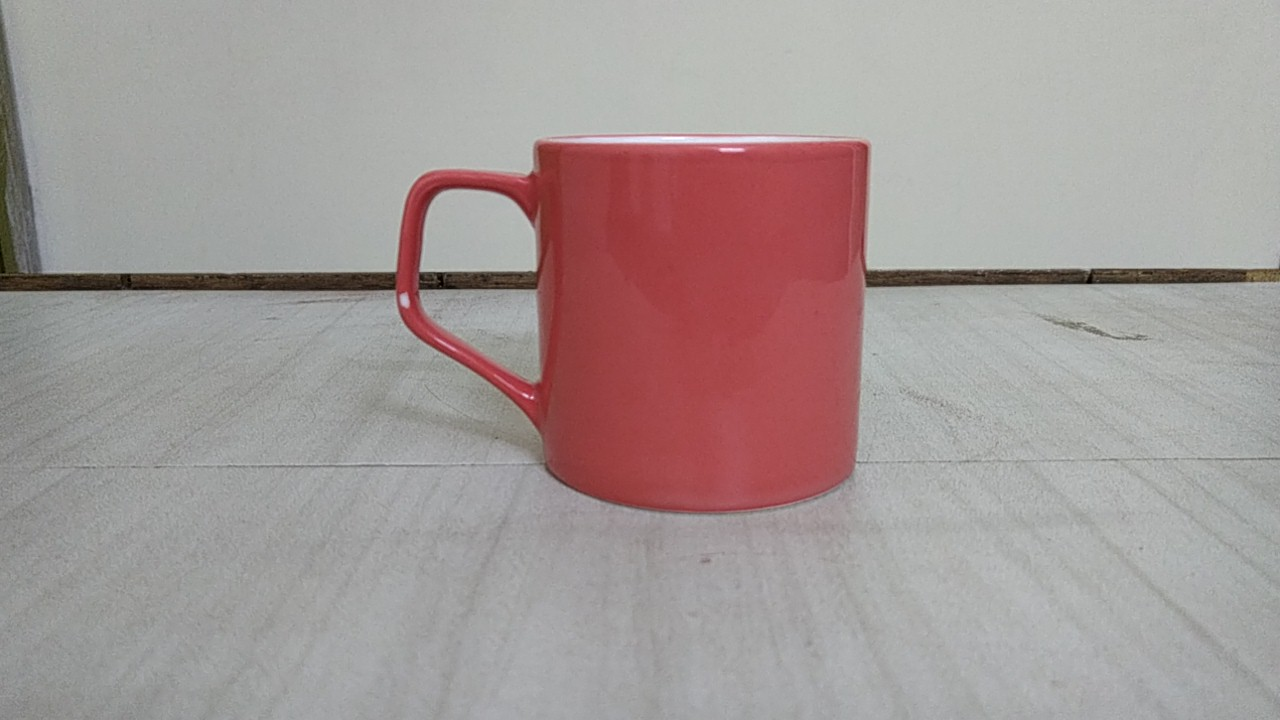cup: (379, 106, 940, 530)
